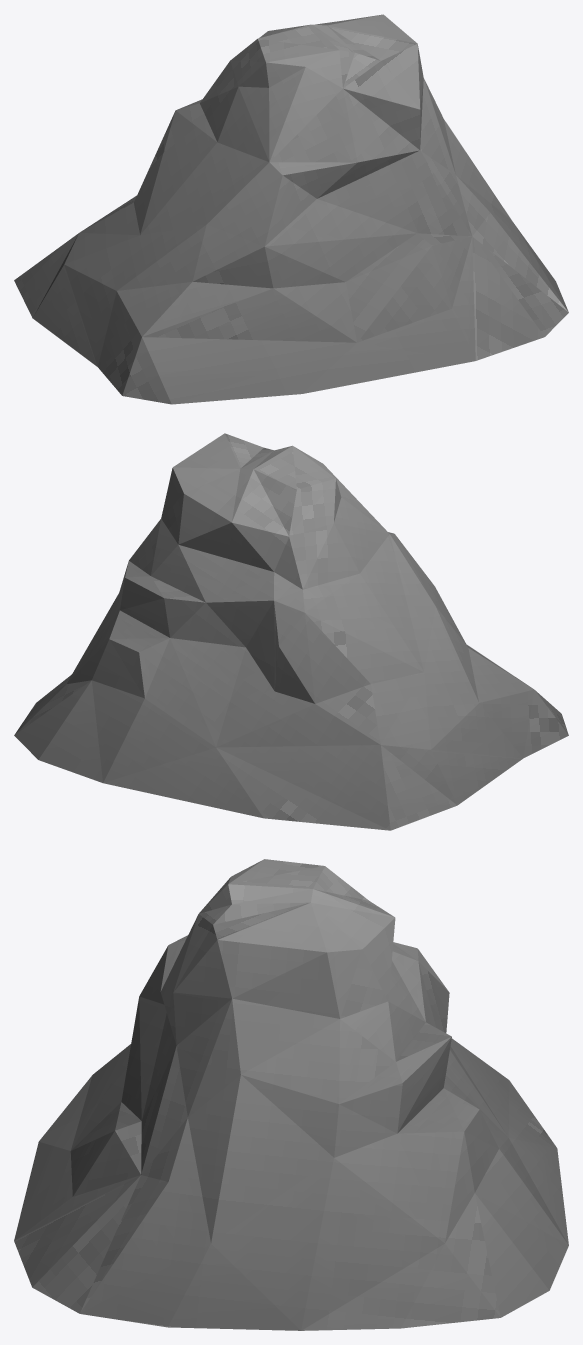
File: mountain_rock_low.glb
3 renders of one model, top to bottom at view 1: azimuth 30°, elevation 25°; view 2: azimuth 150°, elevation 25°; view 3: azimuth 270°, elevation 25°, orthographic. The views are drawn at different scales.
Visible parts, largest first — view 1: mountain_rock_low; view 2: mountain_rock_low; view 3: mountain_rock_low.
Boxes of the visible parts, <box> form: mountain_rock_low: <box>14,14,568,404</box>; mountain_rock_low: <box>14,433,568,830</box>; mountain_rock_low: <box>14,859,568,1330</box>.
Size of the model in its own units: 82.36 by 45.93 by 70.79.
1 material, 1 textured.
